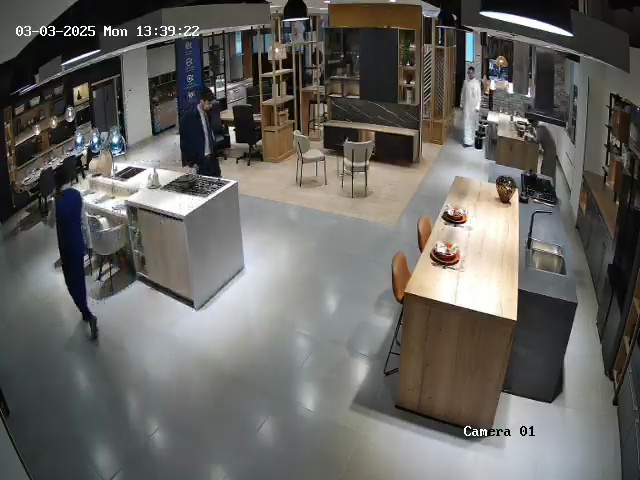employee: (53, 158, 99, 340), (179, 87, 222, 177)
male: (523, 118, 563, 193), (460, 66, 485, 147)
